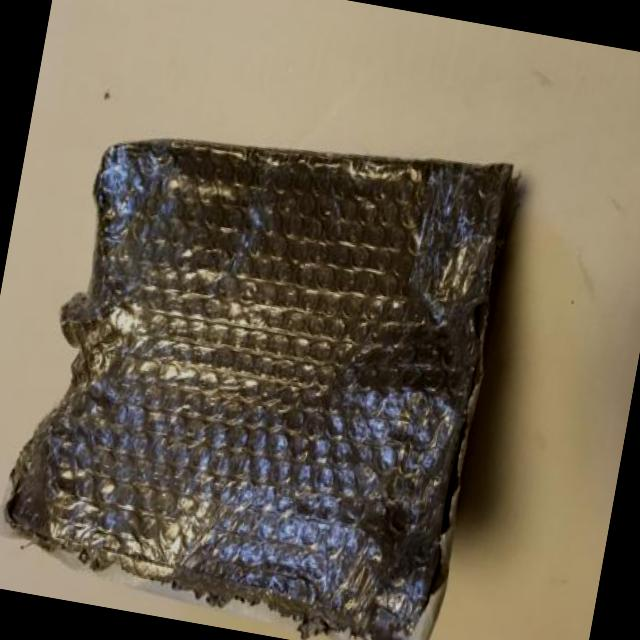Trash: (0, 87, 517, 640)
